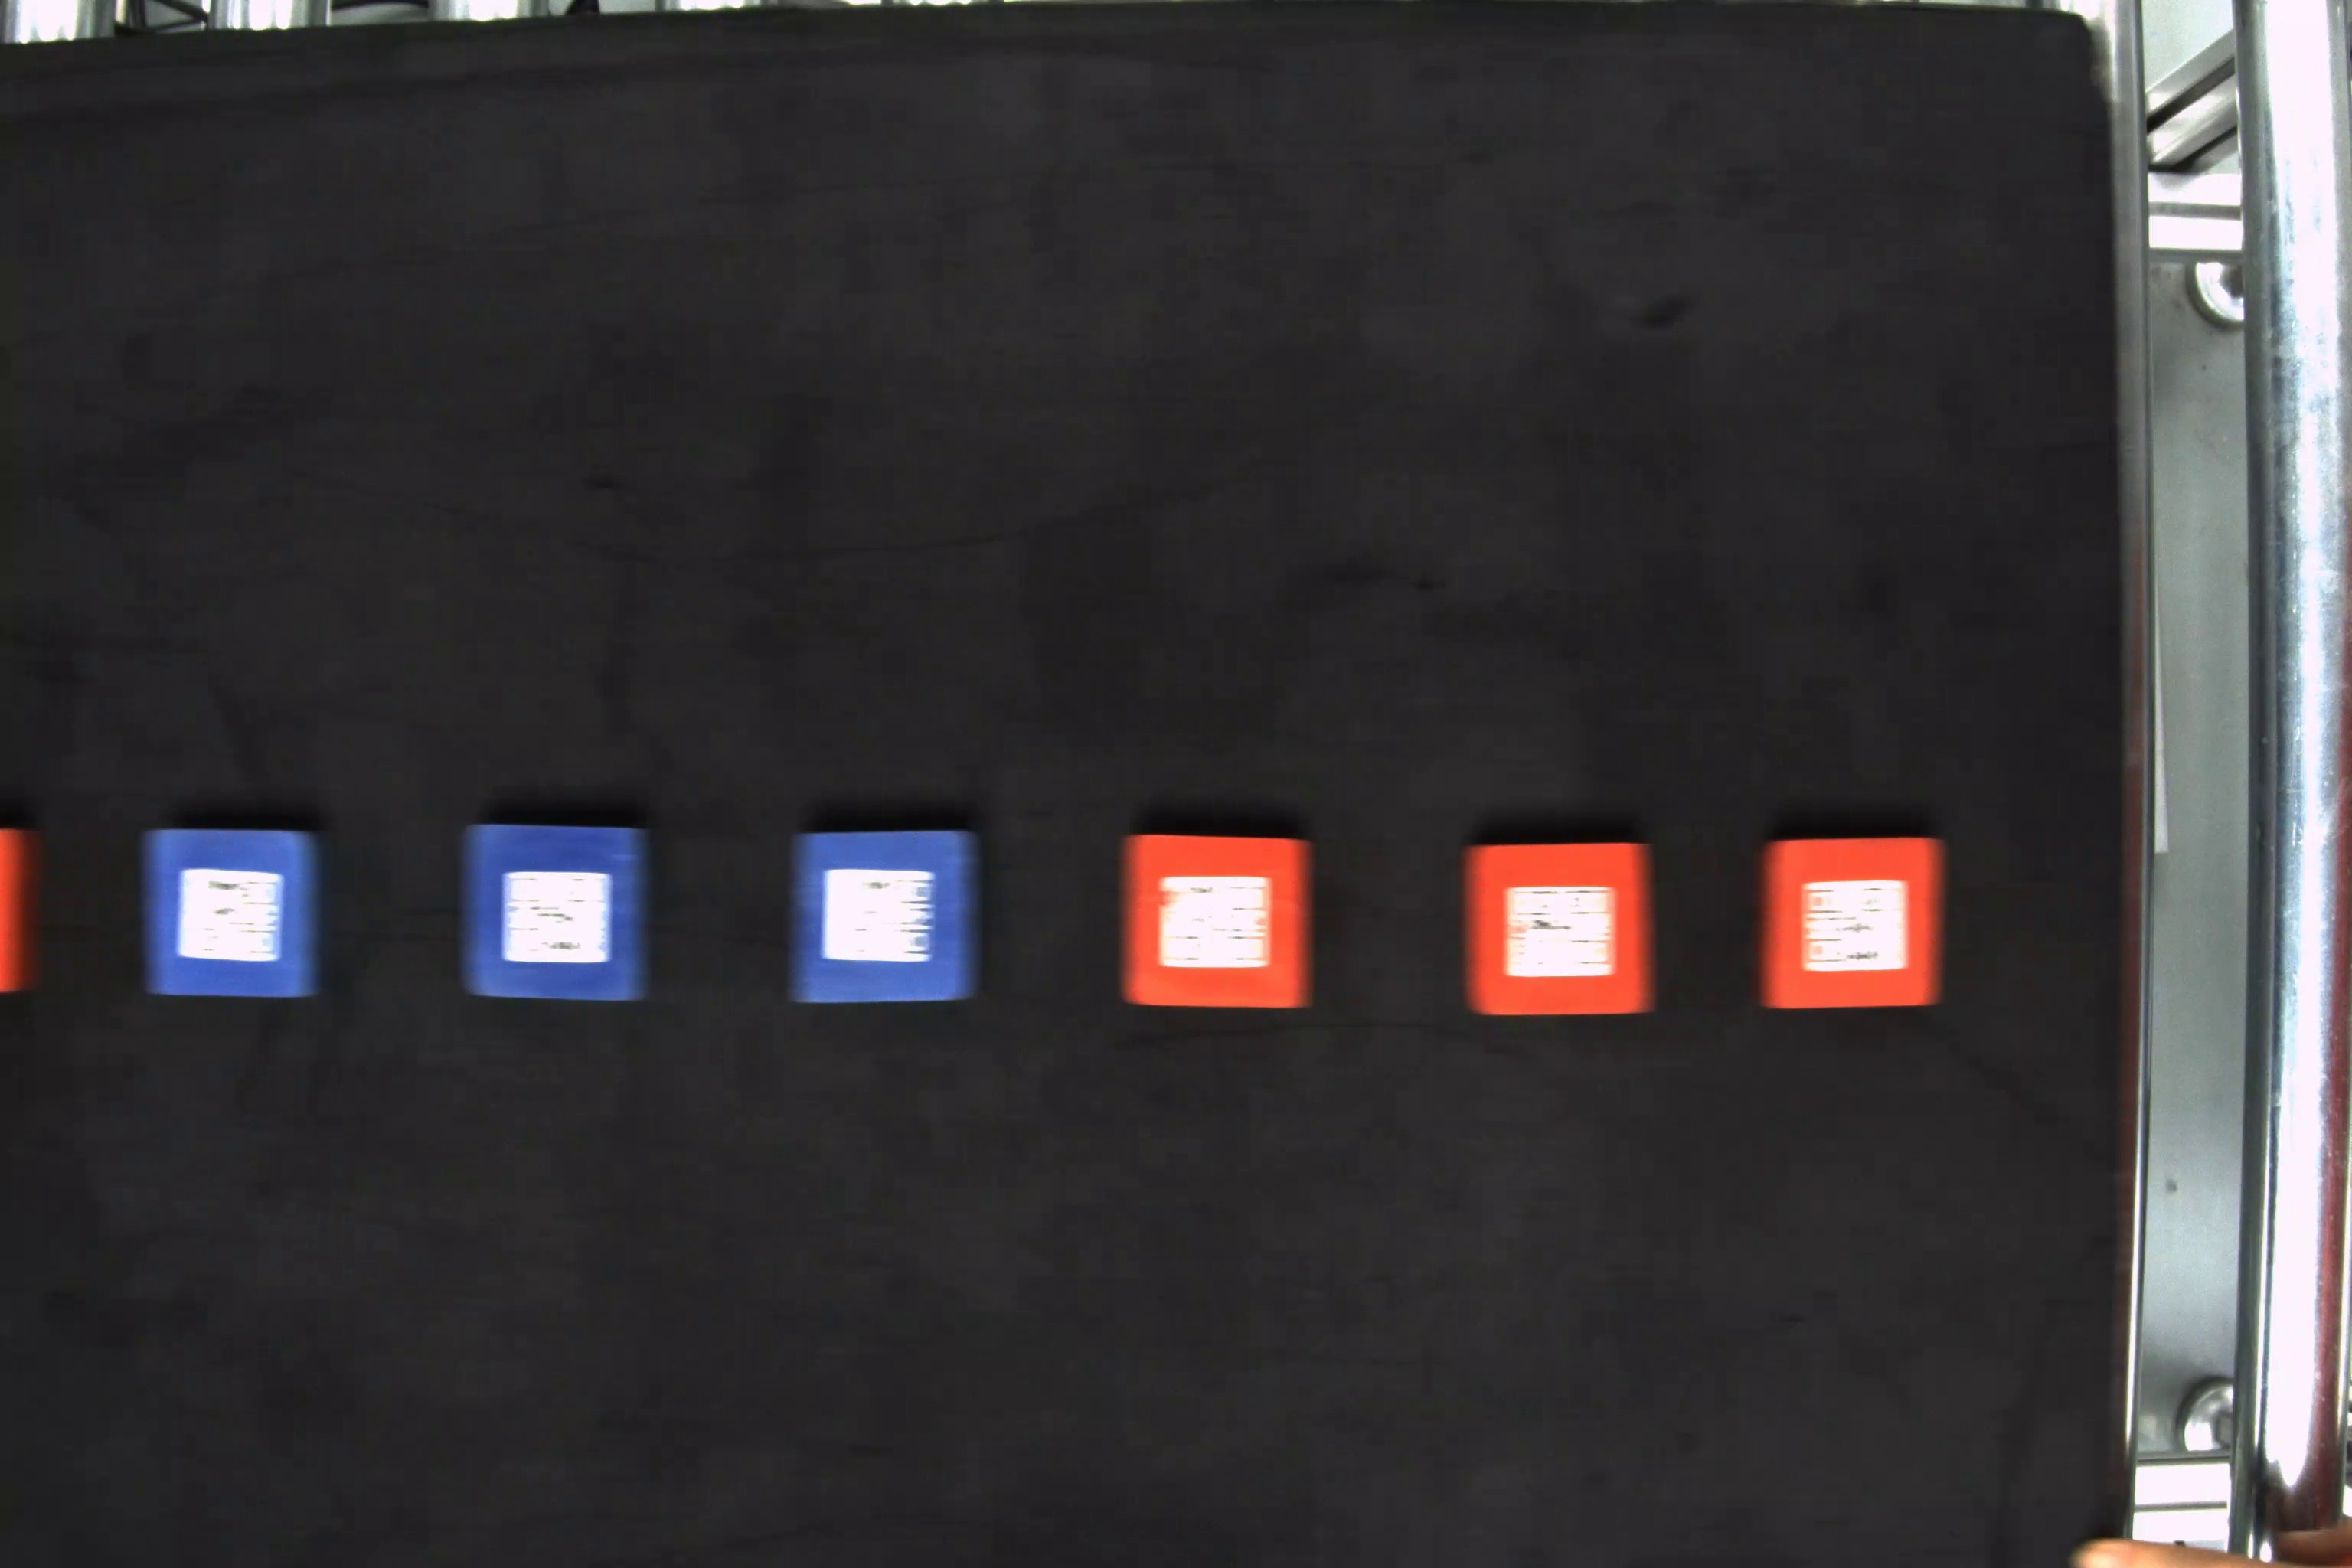wood: (1120, 826, 1321, 1018), (1456, 840, 1664, 1018), (460, 822, 656, 1004), (789, 829, 985, 1008), (131, 826, 331, 997), (1757, 831, 1948, 1006)
